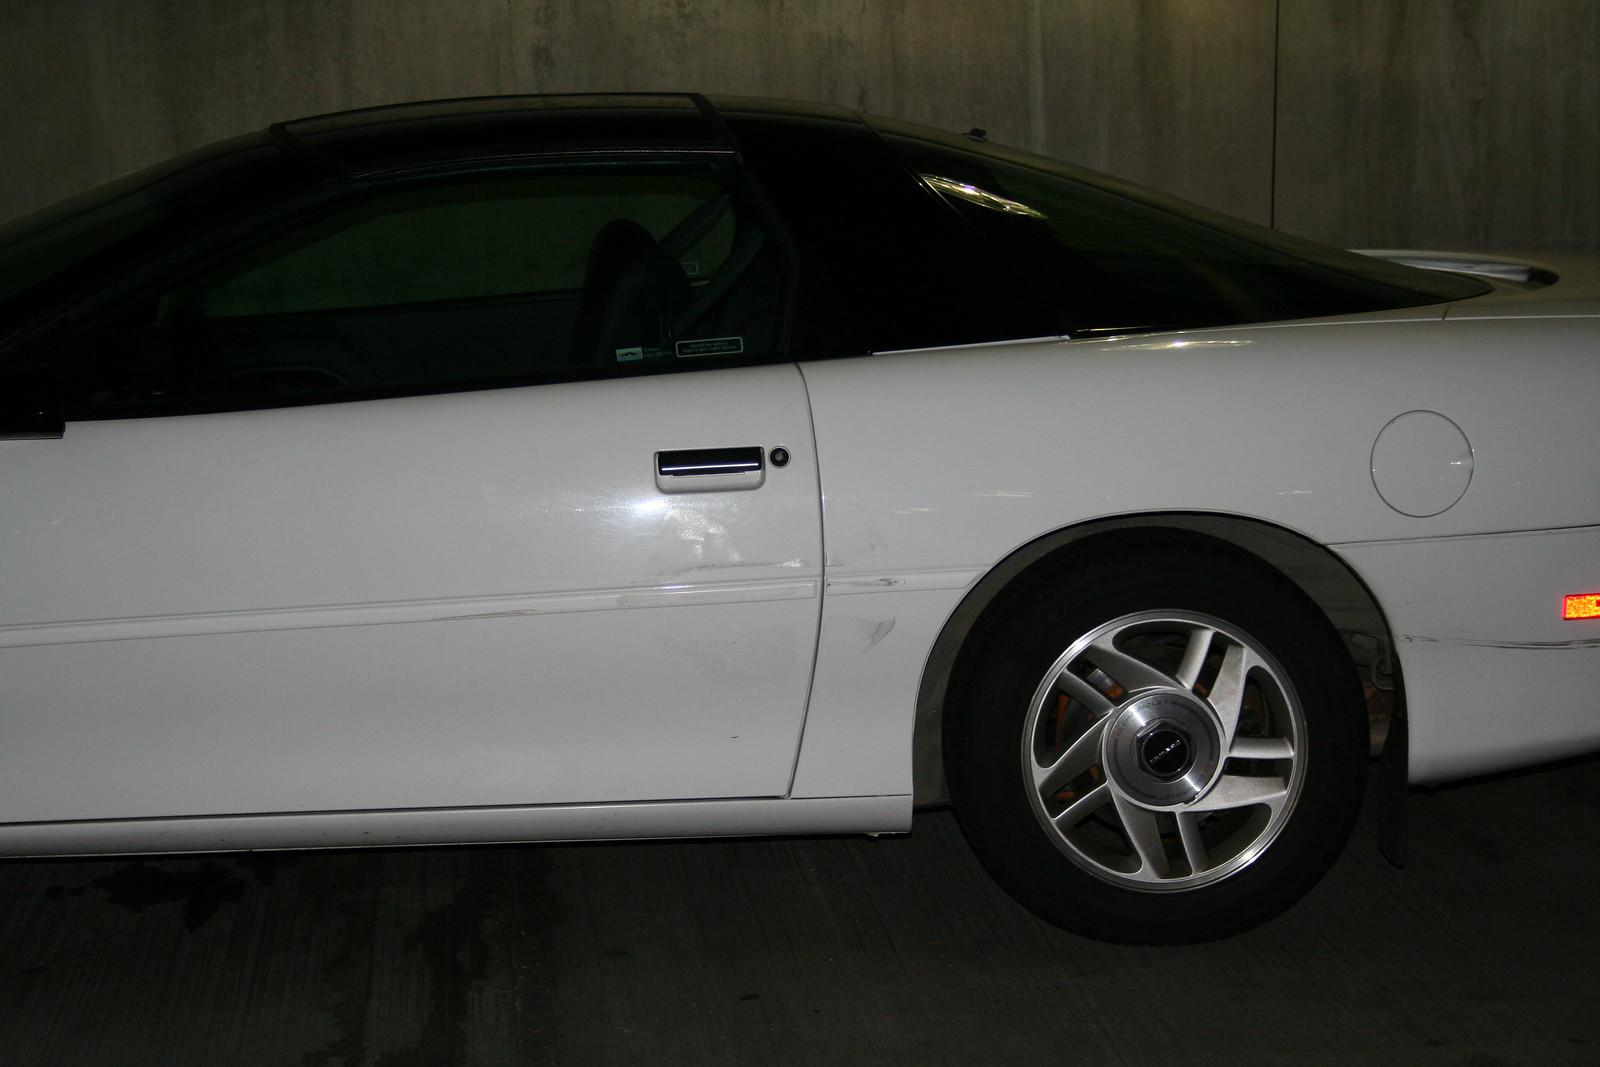quaterpanel-dent: (833, 363, 1599, 676)
